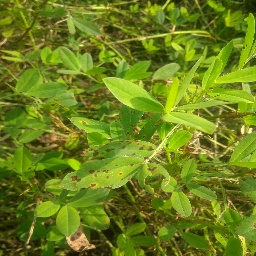GroundNut_Leaf: (62, 156, 145, 192), (101, 76, 165, 116), (169, 113, 219, 135), (240, 11, 256, 69), (94, 142, 159, 155), (209, 89, 255, 107), (55, 205, 81, 236), (24, 81, 67, 99), (84, 207, 112, 233), (178, 228, 211, 250), (200, 58, 223, 88), (172, 190, 194, 219), (71, 16, 102, 35), (12, 146, 33, 174), (179, 158, 201, 184), (18, 128, 46, 143)
